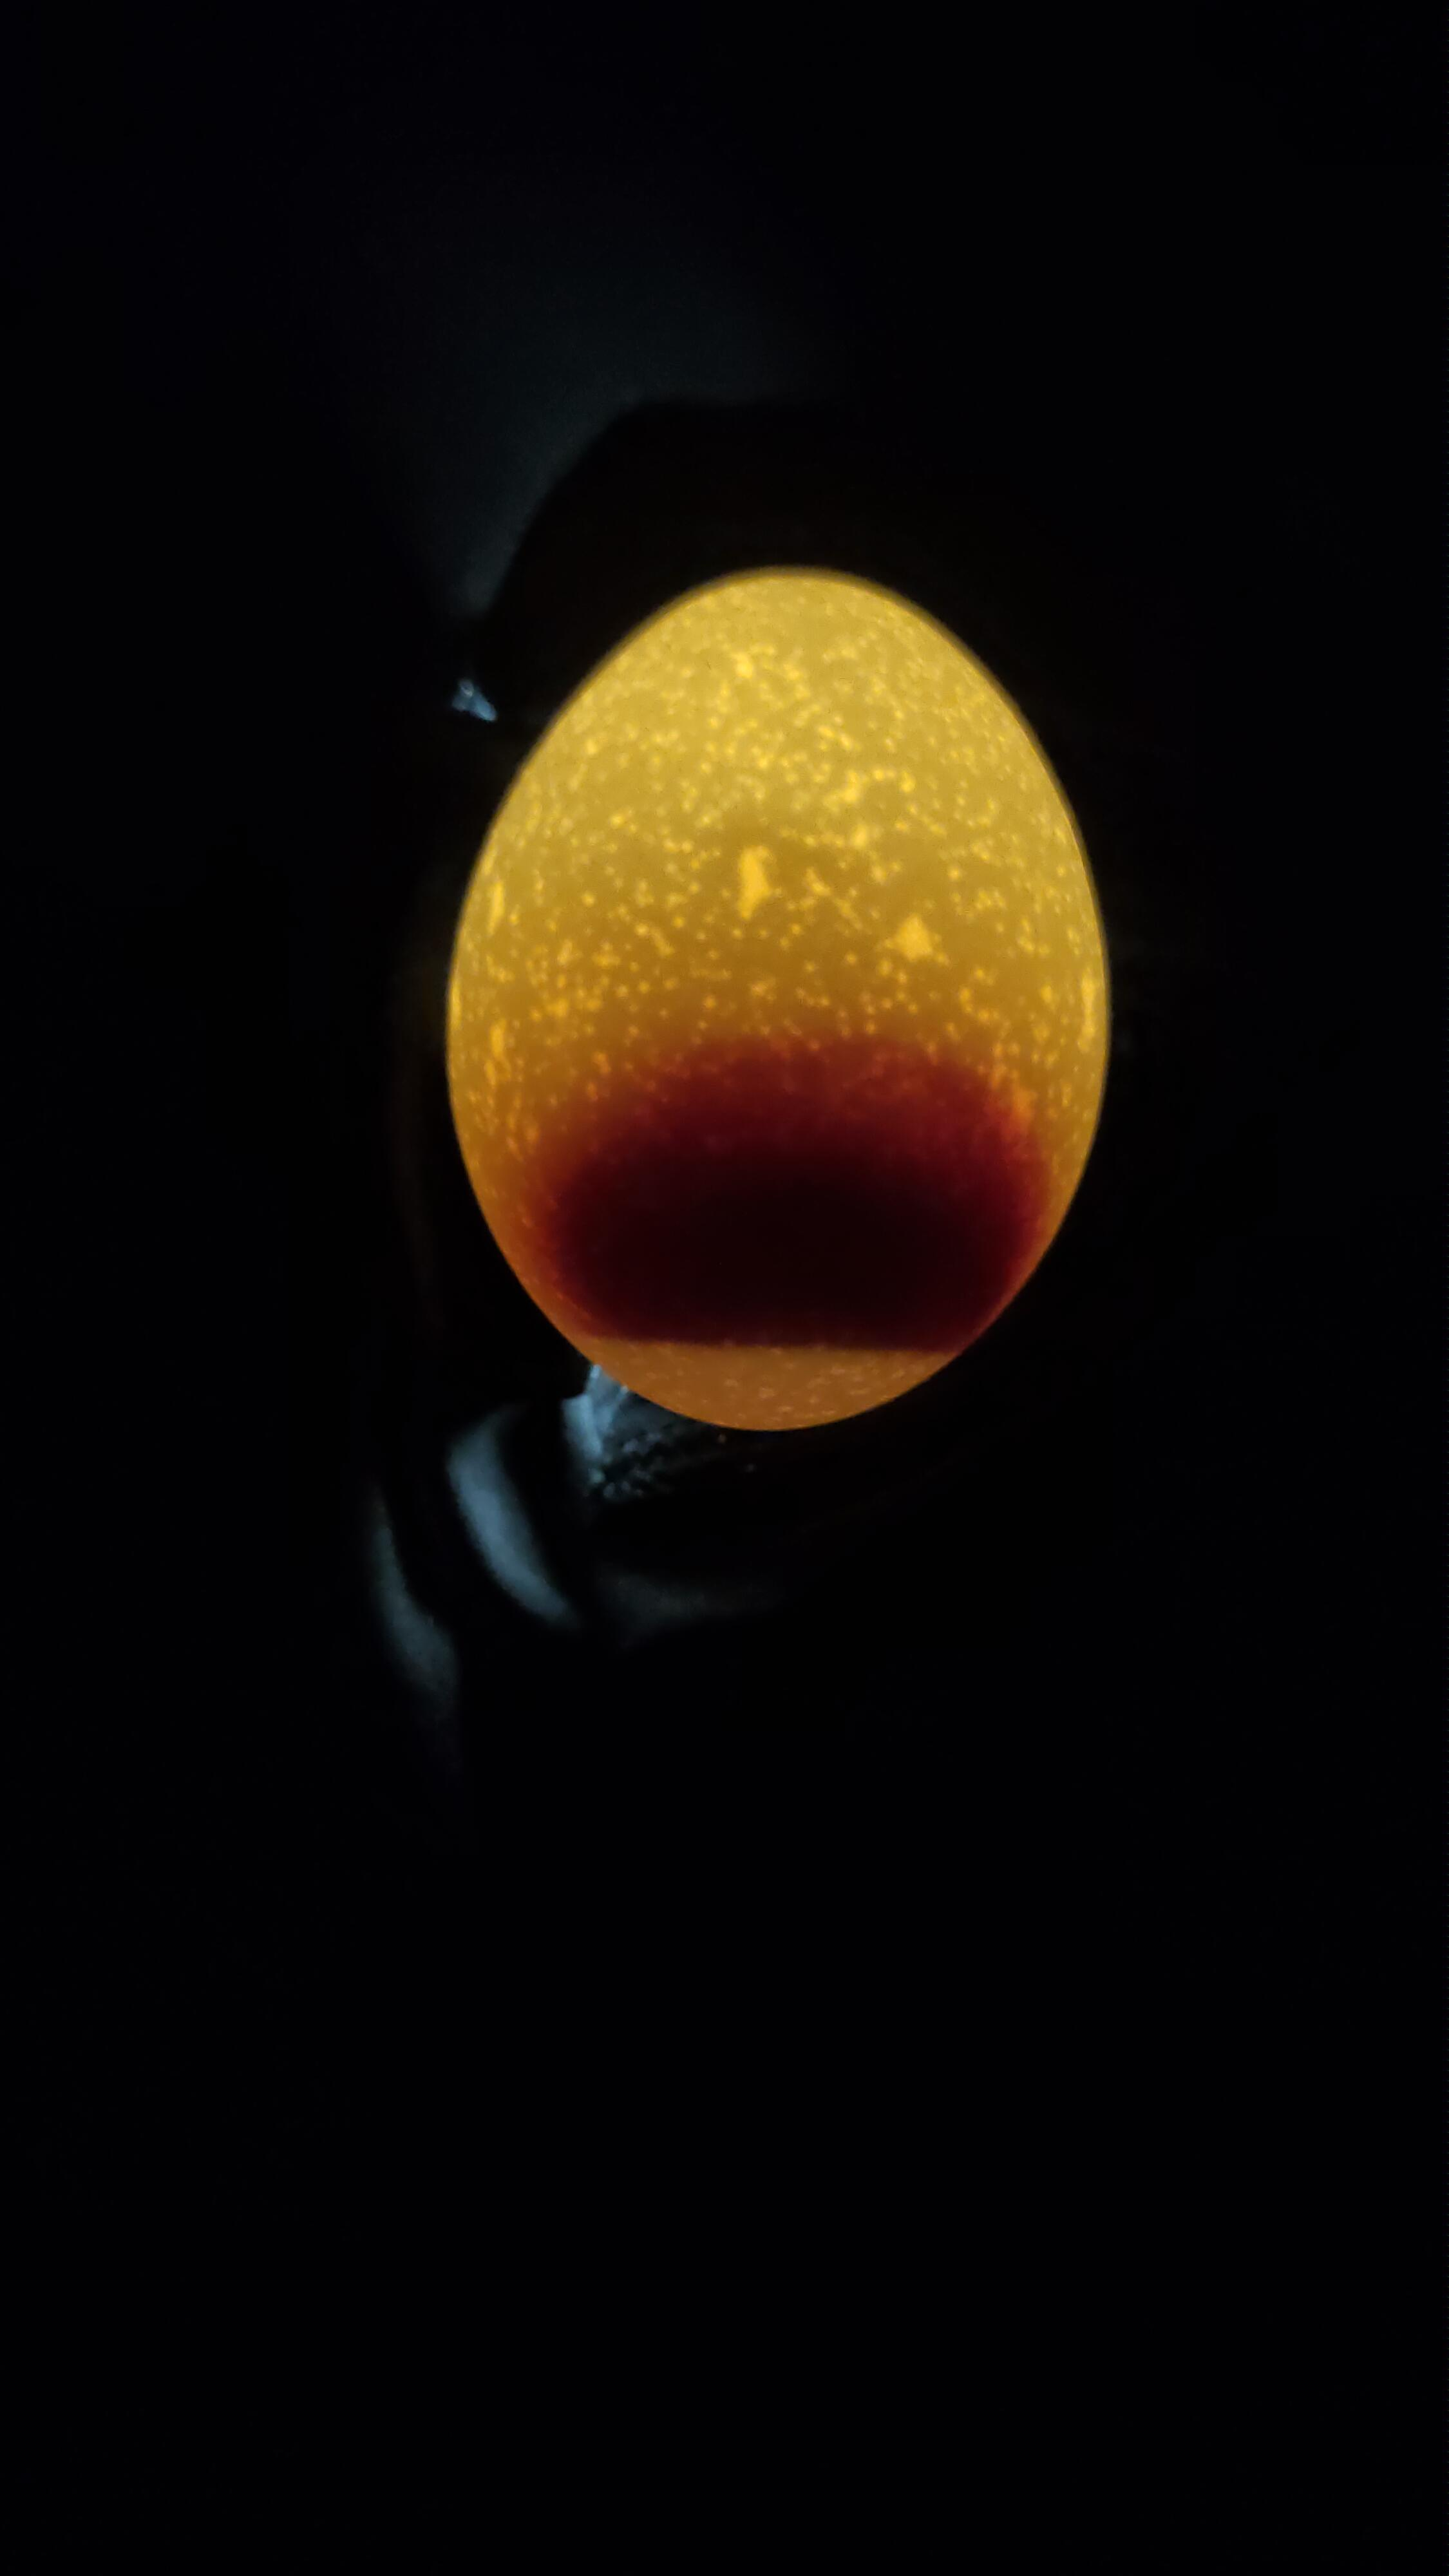AA - Premium: (409, 522, 1159, 1481)
